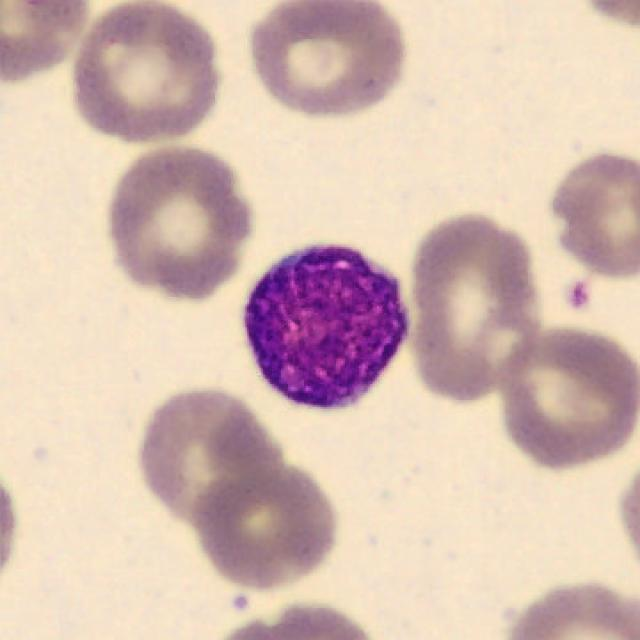Linfocito: (242, 247, 409, 409)
